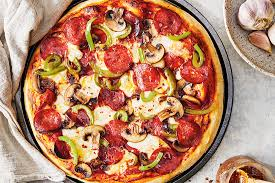pizza: (30, 2, 224, 182)
